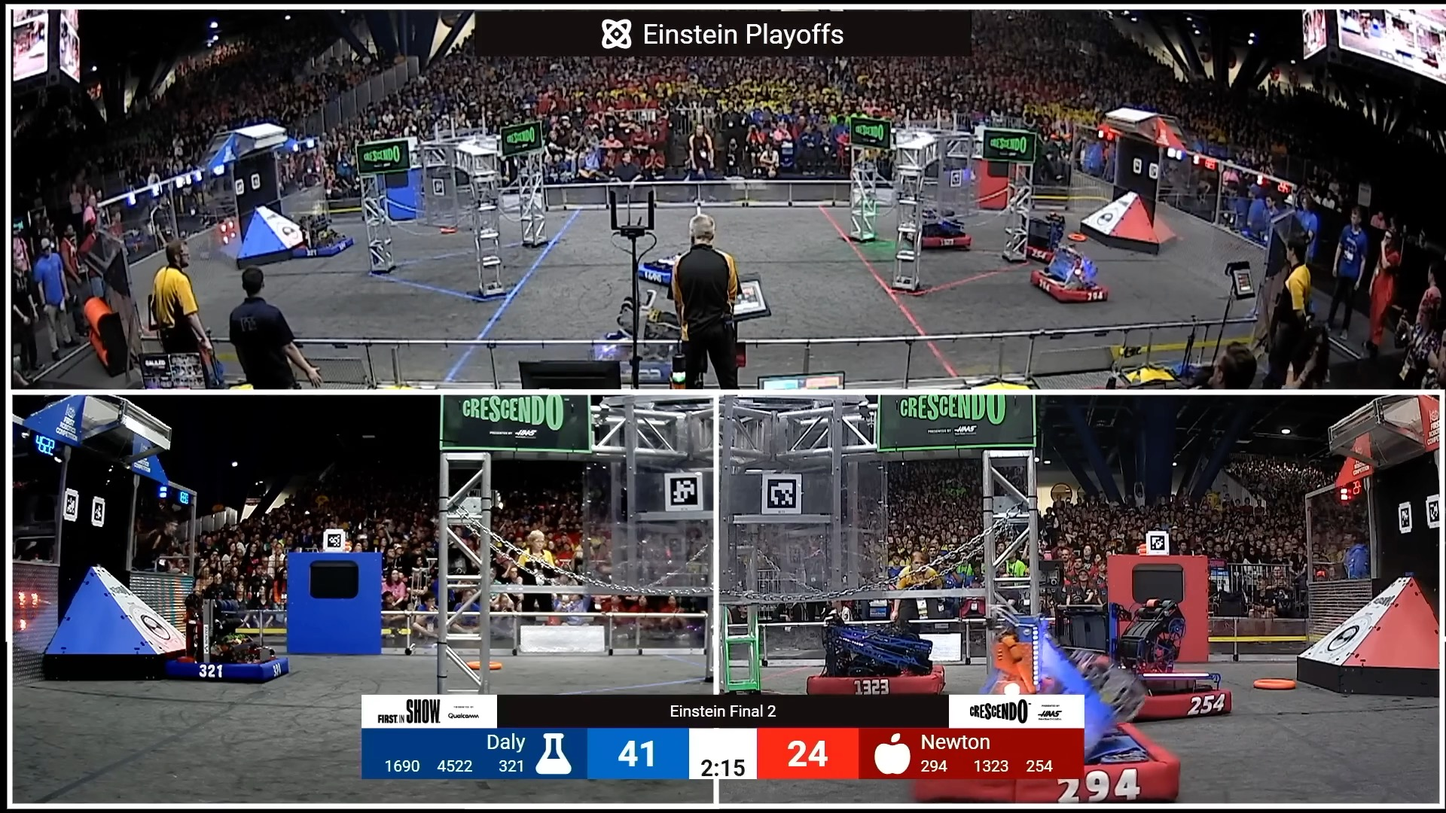bumpers: (911, 720, 1190, 798), (1076, 684, 1238, 719), (158, 652, 296, 690), (1024, 261, 1115, 308), (801, 665, 948, 694), (640, 252, 724, 291), (895, 220, 976, 255), (1013, 236, 1077, 262), (287, 235, 356, 258)
